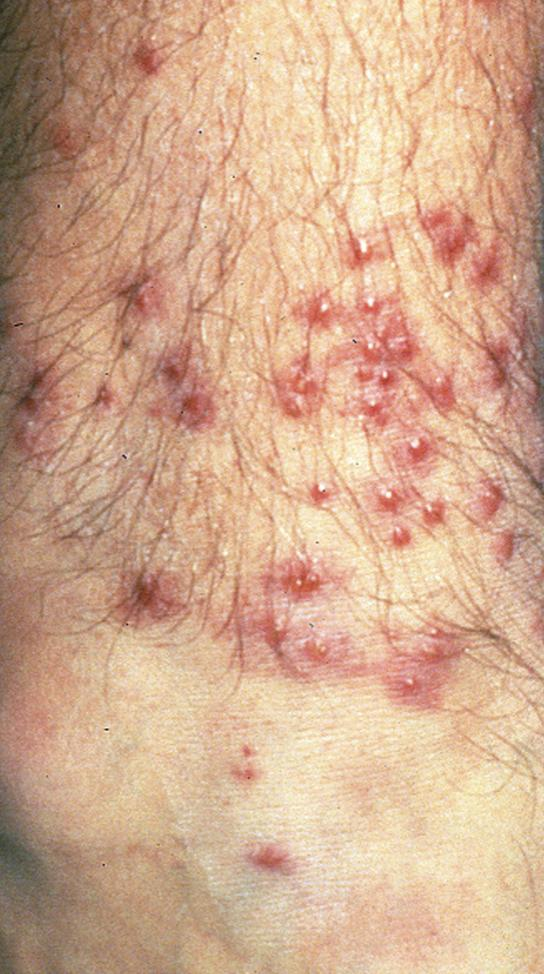Chigger-bites: (99, 25, 184, 93), (416, 197, 479, 288), (14, 345, 55, 482), (151, 353, 215, 440), (259, 625, 349, 680), (281, 282, 359, 340), (109, 263, 172, 325), (269, 363, 322, 428), (112, 567, 174, 622), (472, 330, 517, 403), (31, 110, 85, 168), (214, 740, 274, 792), (77, 373, 129, 427), (284, 475, 345, 518), (239, 838, 315, 872), (412, 613, 452, 662), (281, 565, 327, 600), (417, 492, 455, 532), (421, 370, 460, 407), (392, 668, 430, 705), (356, 333, 377, 392), (372, 480, 407, 515), (382, 330, 419, 360), (381, 523, 417, 550), (351, 235, 377, 270), (492, 530, 525, 555), (361, 397, 387, 428), (479, 487, 502, 518), (364, 293, 385, 322), (387, 308, 409, 335), (352, 338, 375, 362), (406, 433, 425, 458)
